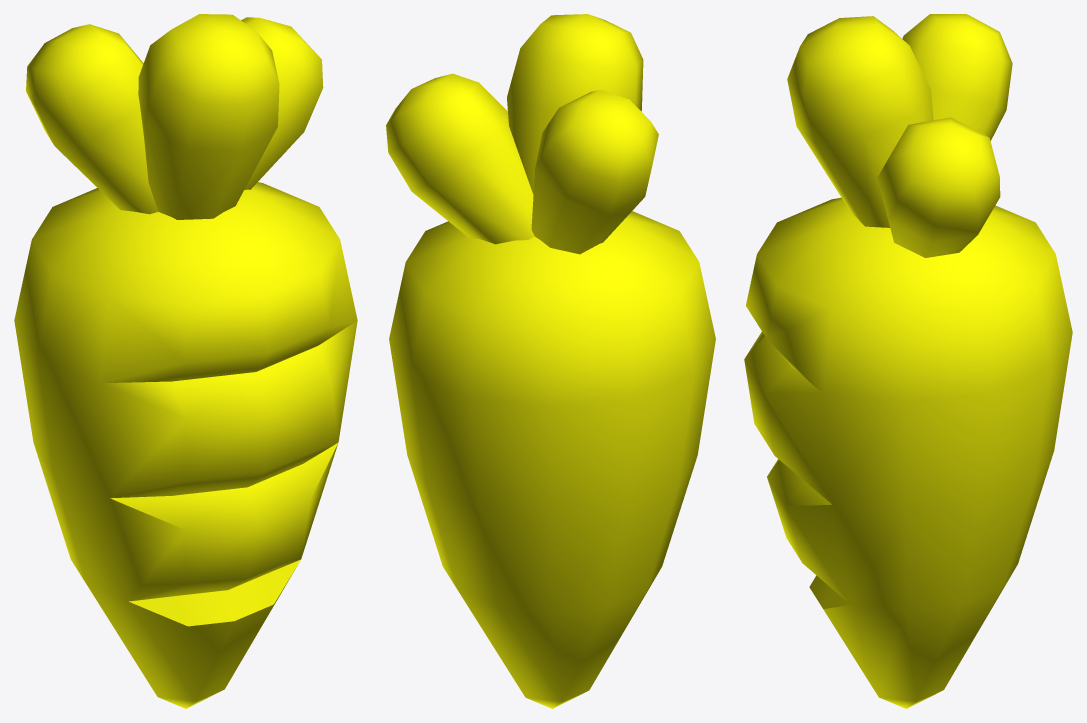
The model's file is food_ingredient_carrot.gltf.
3 views of the same model, side by side, from view 1: azimuth 30°, elevation 25°; view 2: azimuth 150°, elevation 25°; view 3: azimuth 270°, elevation 25° (orthographic). The views are drawn at different scales.
Visible parts, largest first — view 1: food_ingredient_carrot; view 2: food_ingredient_carrot; view 3: food_ingredient_carrot.
Part boxes in pixels (x1=…): food_ingredient_carrot: x1=14, y1=14, x2=357, y2=708; food_ingredient_carrot: x1=386, y1=14, x2=715, y2=708; food_ingredient_carrot: x1=744, y1=14, x2=1072, y2=708.
Size of the model in its own units: 0.56 by 1.27 by 0.5529.
Materials: 1 (1 with a texture image).
